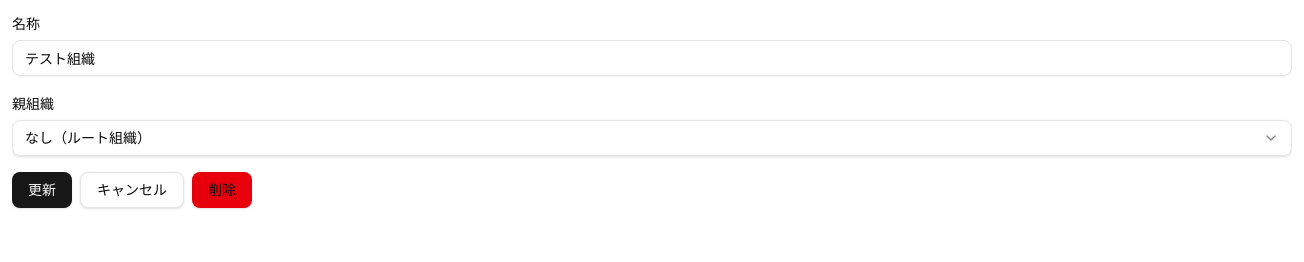
Test case: OrganizationEditForm › should show validation error for empty name
Clear the field labelled "名称" at point(652, 58), box [12,40,1292,76]
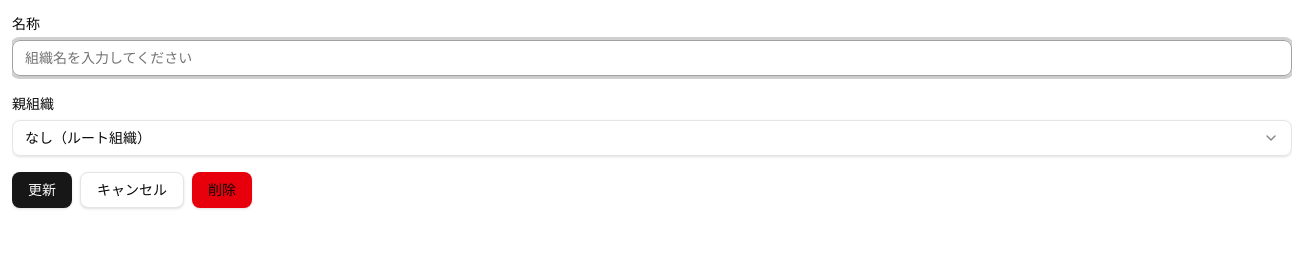
Click the button "更新" at point(42, 190), box [12,172,72,208]
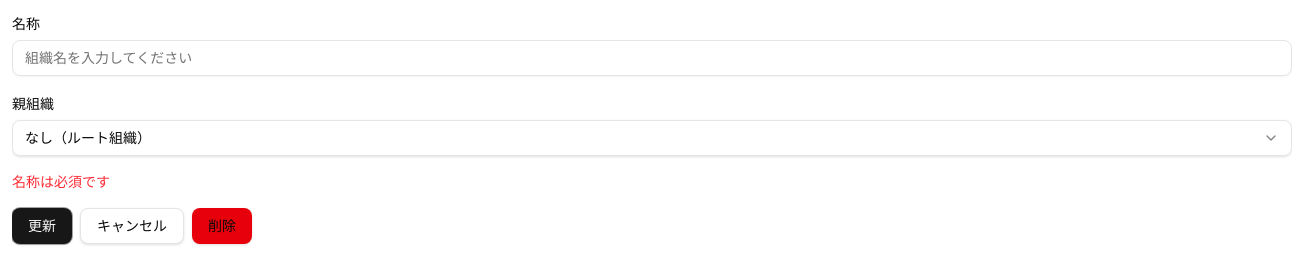
Check: the text "名称は必須です" is shown, box [12,173,110,191]
